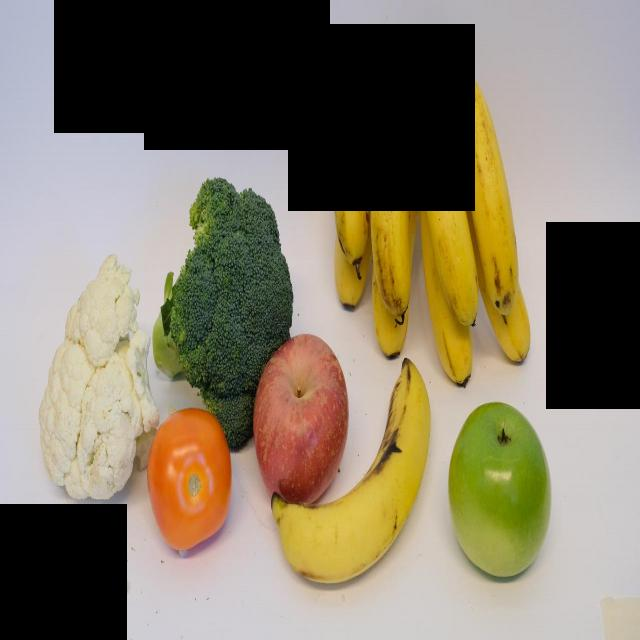apple: (438, 395, 565, 586), (255, 332, 352, 506)
banana: (268, 356, 434, 592), (334, 47, 418, 268), (452, 58, 522, 315), (415, 68, 482, 330), (372, 78, 420, 316)
broccoli: (147, 166, 305, 460)
cauliflower: (35, 249, 164, 514)
tomato: (144, 401, 234, 556)
